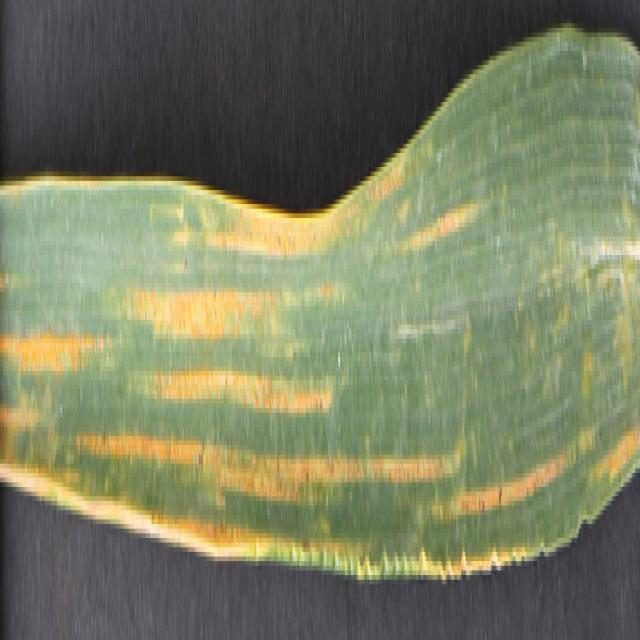leaf rust: (0, 106, 640, 547)
